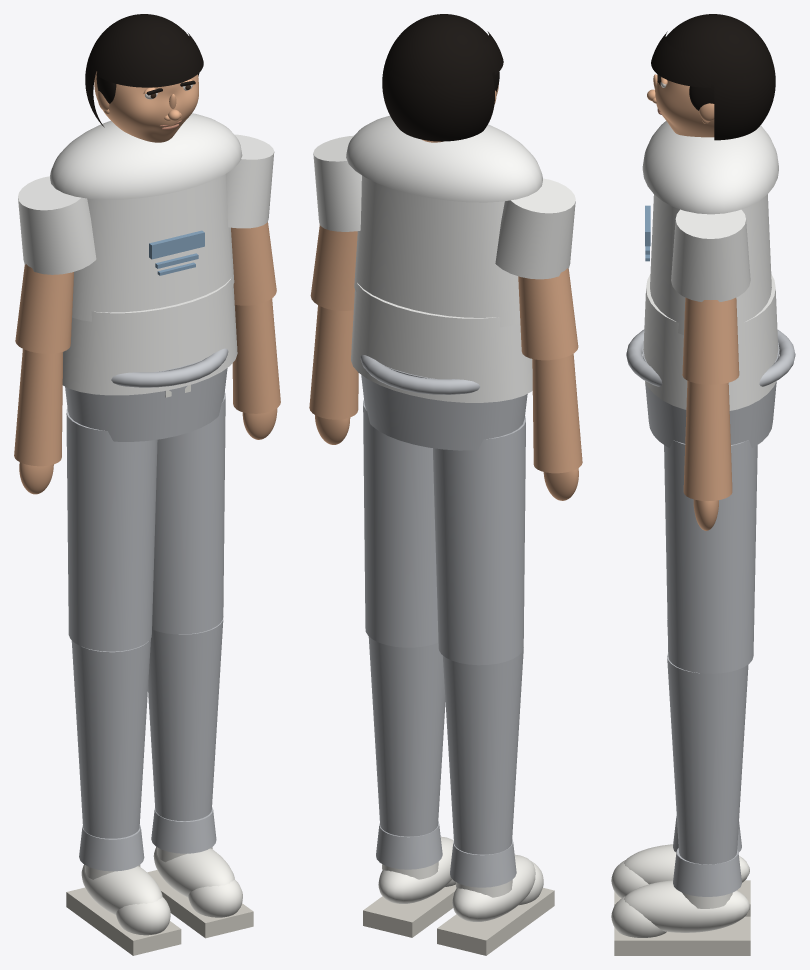
File: character.glb
3 renders of one model, left to right at view 1: azimuth 30°, elevation 25°; view 2: azimuth 150°, elevation 25°; view 3: azimuth 270°, elevation 25°, orthographic. The views are drawn at different scales.
Visible parts, largest first — view 1: thighL, shirtChest, thighR, calfL, calfR, shirtHem, shirtYoke, hips, sleeveL, forearmL, forearmR, upperArmL (+17 smaller); view 2: thighL, shirtChest, thighR, calfL, shirtHem, calfR, shirtYoke, hips, sleeveL, hairBack, hairTop, forearmL (+13 smaller); view 3: thighR, calfR, shirtYoke, shirtHem, sleeveR, shirtChest, forearmR, hairTop, upperArmR, shoeBodyR, hips, soleR (+11 smaller).
Boxes of the visible parts, x1=… form: thighL: x1=66, y1=408, x2=157, y2=651; shirtChest: x1=72, y1=173, x2=234, y2=321; thighR: x1=152, y1=392, x2=225, y2=634; calfL: x1=71, y1=638, x2=150, y2=838; calfR: x1=148, y1=616, x2=223, y2=821; shirtHem: x1=62, y1=278, x2=237, y2=395; shirtYoke: x1=50, y1=113, x2=242, y2=199; hips: x1=65, y1=360, x2=227, y2=441; sleeveL: x1=18, y1=176, x2=96, y2=274; forearmL: x1=14, y1=349, x2=62, y2=466; forearmR: x1=232, y1=298, x2=280, y2=413; upperArmL: x1=15, y1=264, x2=73, y2=353; thighL: x1=433, y1=416, x2=525, y2=665; shirtChest: x1=354, y1=175, x2=520, y2=327; thighR: x1=363, y1=399, x2=438, y2=647; calfL: x1=442, y1=649, x2=523, y2=854; shirtHem: x1=351, y1=282, x2=532, y2=402; calfR: x1=368, y1=636, x2=445, y2=836; shirtYoke: x1=346, y1=115, x2=542, y2=202; hips: x1=361, y1=366, x2=527, y2=450; sleeveL: x1=495, y1=178, x2=575, y2=279; hairBack: x1=382, y1=56, x2=494, y2=141; hairTop: x1=386, y1=14, x2=494, y2=85; forearmL: x1=532, y1=353, x2=582, y2=473; thighR: x1=664, y1=440, x2=757, y2=673; calfR: x1=667, y1=653, x2=748, y2=864; shirtYoke: x1=642, y1=121, x2=778, y2=214; shirtHem: x1=643, y1=273, x2=778, y2=410; sleeveR: x1=671, y1=209, x2=750, y2=301; shirtChest: x1=650, y1=194, x2=771, y2=334; forearmR: x1=683, y1=380, x2=732, y2=500; hairTop: x1=665, y1=14, x2=772, y2=84; upperArmR: x1=682, y1=297, x2=739, y2=384; shoeBodyR: x1=624, y1=880, x2=749, y2=932; hips: x1=642, y1=342, x2=779, y2=447; soleR: x1=614, y1=916, x2=750, y2=955.
Size of the model in its own units: 0.5409 by 1.76 by 0.324.
